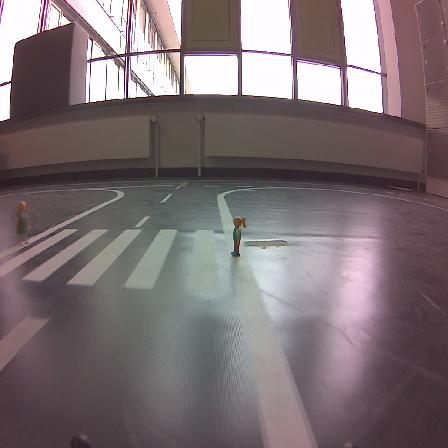CHILD: (232, 217, 245, 256)
PERSON: (16, 201, 29, 244)
